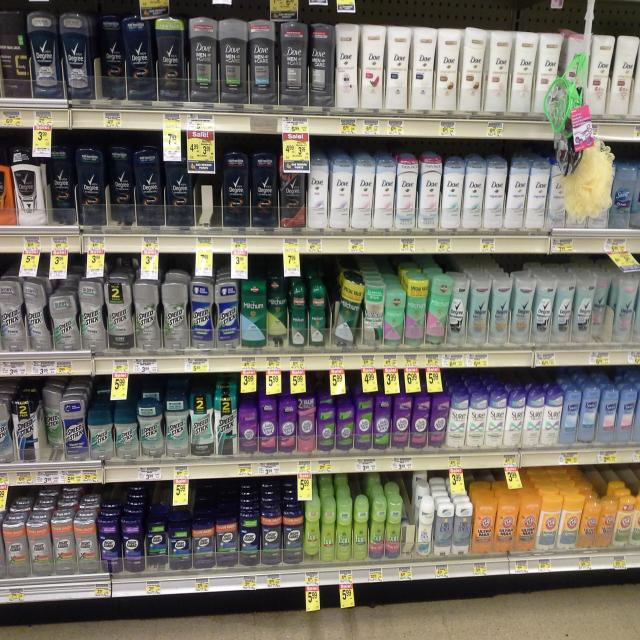empty: (193, 139, 230, 239)
